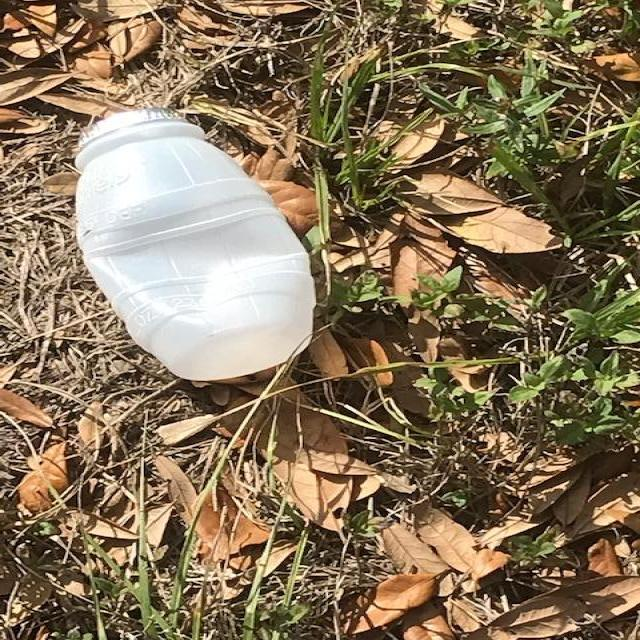litter: (73, 108, 315, 380)
